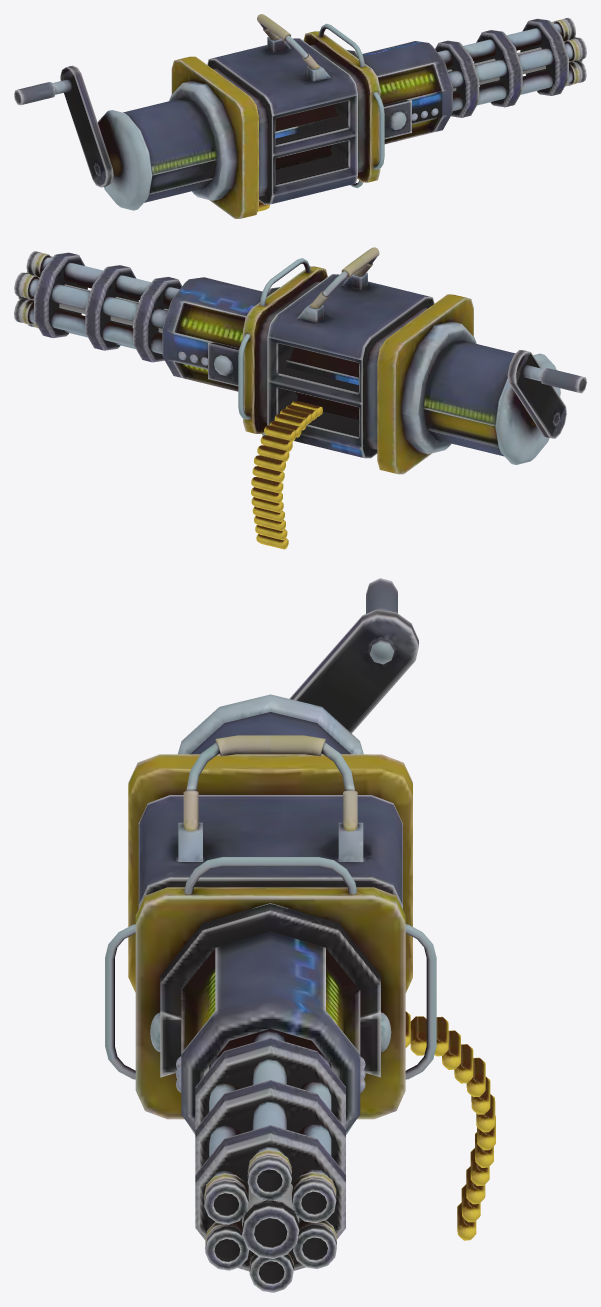
Rendered from gatling_gun.glb.
3 views of the same model, one above another, from view 1: azimuth 30°, elevation 25°; view 2: azimuth 150°, elevation 25°; view 3: azimuth 270°, elevation 25° (orthographic). The views are drawn at different scales.
Parts seen in each view (by area): view 1: Low; view 2: Low; view 3: Low.
Boxes of the visible parts, x1,y1,x2,y2 form: Low: (14, 14, 586, 218); Low: (14, 247, 586, 549); Low: (105, 578, 495, 1292).
Size of the model in its own units: 1.32 by 0.5506 by 0.4207.
1 material, 1 textured.
